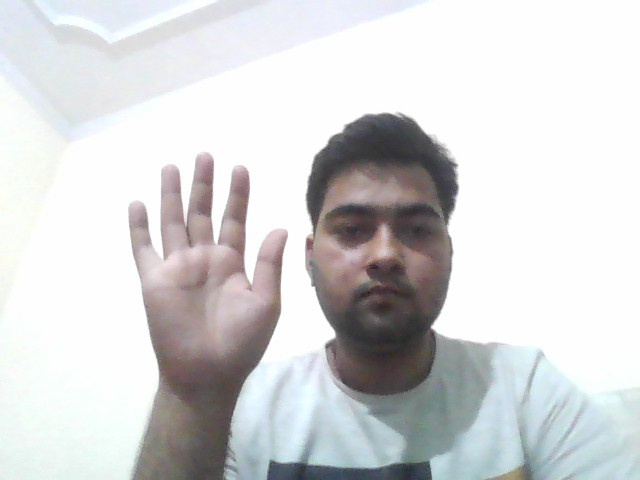Hello: (119, 151, 291, 392)
